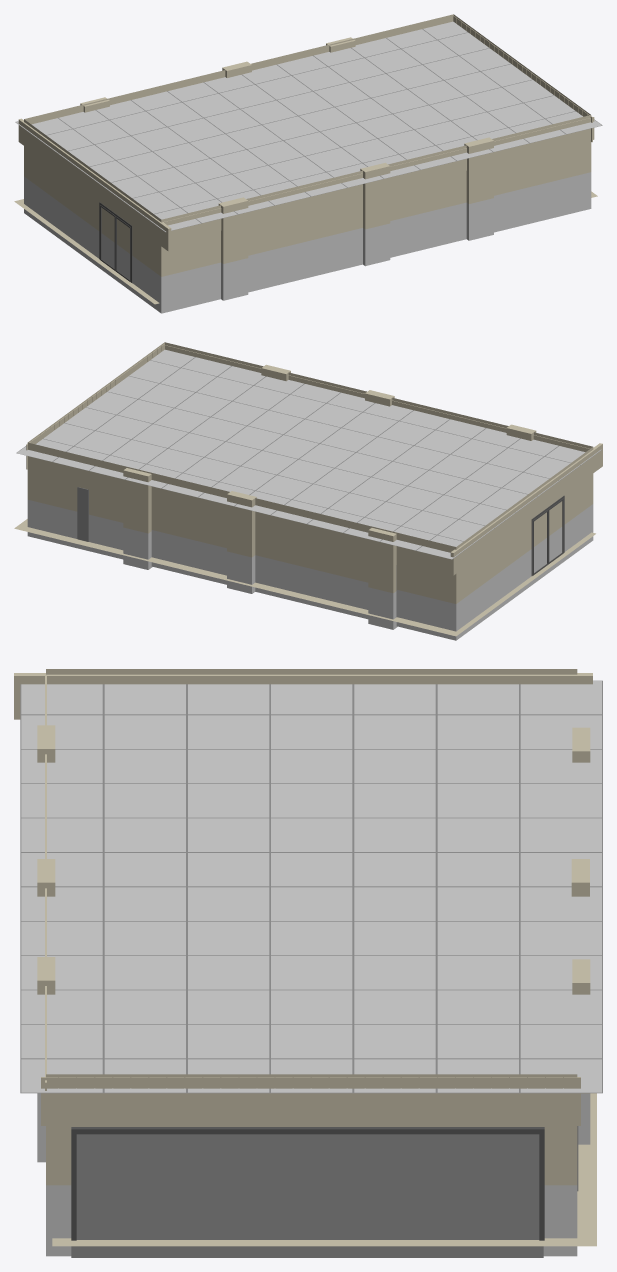
Rendered from Quiet study room .fbx.
3 renders of one model, top to bottom at view 1: azimuth 30°, elevation 25°; view 2: azimuth 150°, elevation 25°; view 3: azimuth 270°, elevation 25°, orthographic. The views are drawn at different scales.
Visible parts, largest first — view 1: Plane; view 2: Plane; view 3: Plane.
Boxes of the visible parts, bbox=[...] form: Plane: bbox=[14, 14, 602, 313]; Plane: bbox=[14, 342, 602, 640]; Plane: bbox=[14, 669, 602, 1257].
Size of the model in its own units: 3843 by 788 by 2287.
